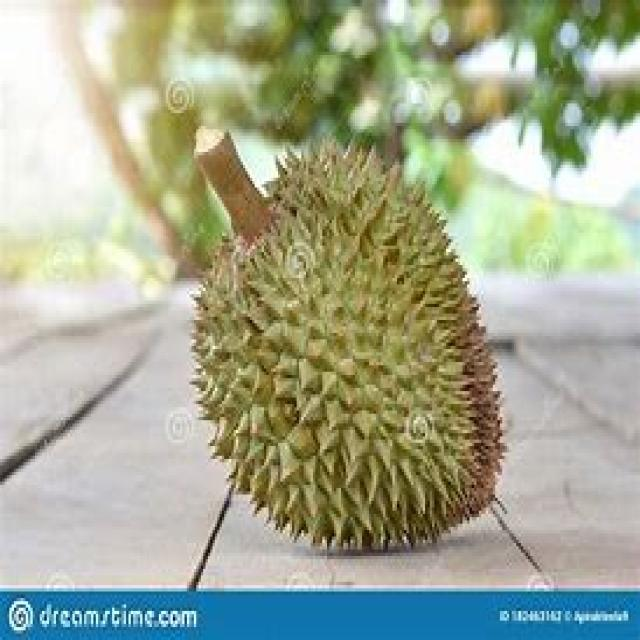mature: (0, 0, 175, 286)
